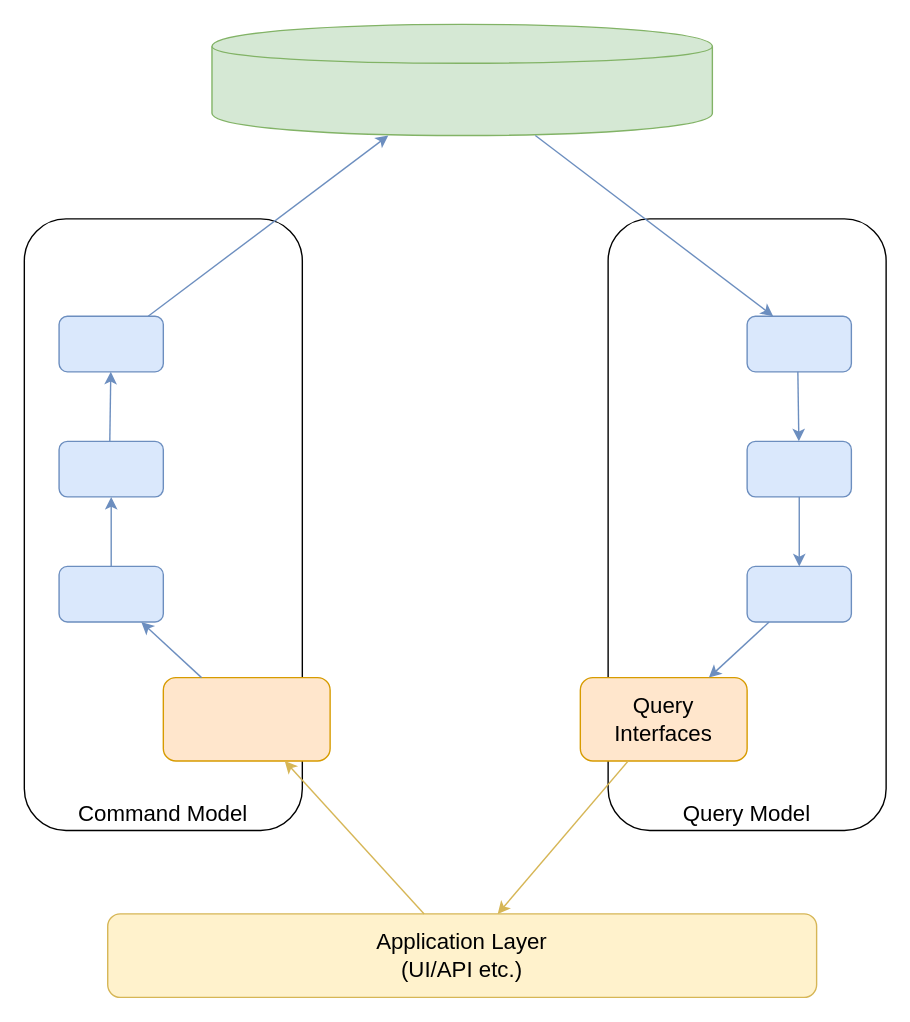
Image size: 910x1022. Some labels were removed from this diagram. The shapes that lost their labels are listed below. From the top down, each one's centre as x and y in pixels, then its label:
point 461,79: Database
point 246,718: Command Interfaces
